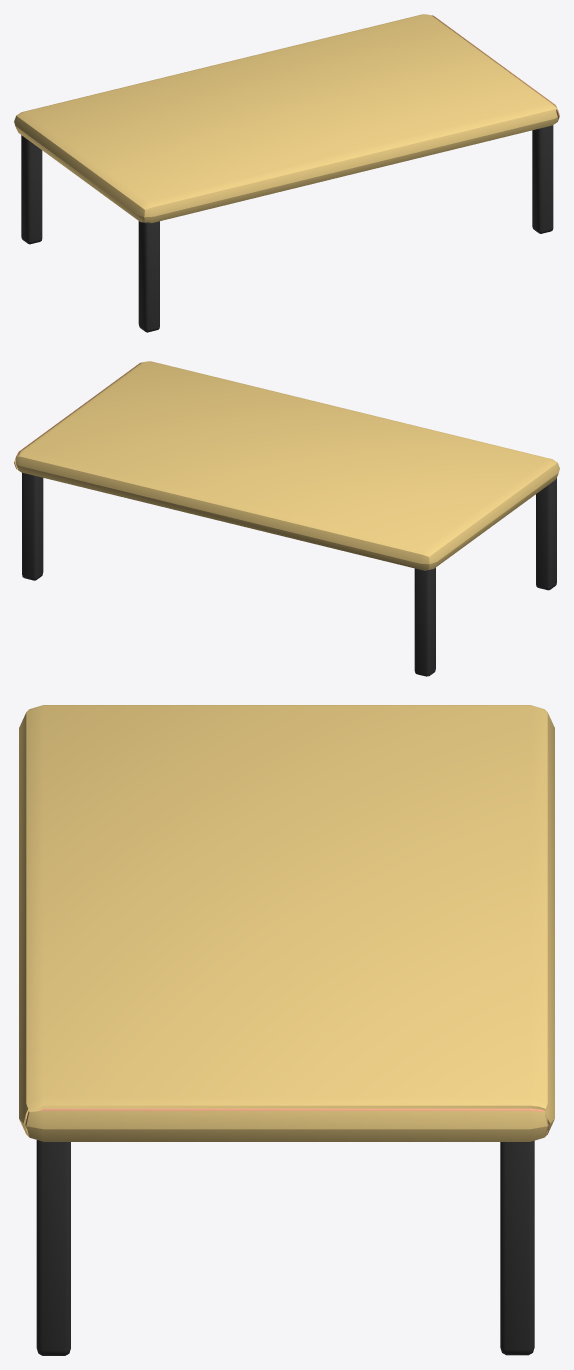
The model's file is Props_Table_01.fbx.
3 renders of one model, top to bottom at view 1: azimuth 30°, elevation 25°; view 2: azimuth 150°, elevation 25°; view 3: azimuth 270°, elevation 25°, orthographic. The views are drawn at different scales.
Parts seen in each view (by area): view 1: Props_Table_01; view 2: Props_Table_01; view 3: Props_Table_01.
Part boxes in pixels (x1,y1,x2,y2): Props_Table_01: (14,14,559,332); Props_Table_01: (14,361,559,676); Props_Table_01: (19,705,554,1355).
Size of the model in its own units: 200 by 58.24 by 110.
